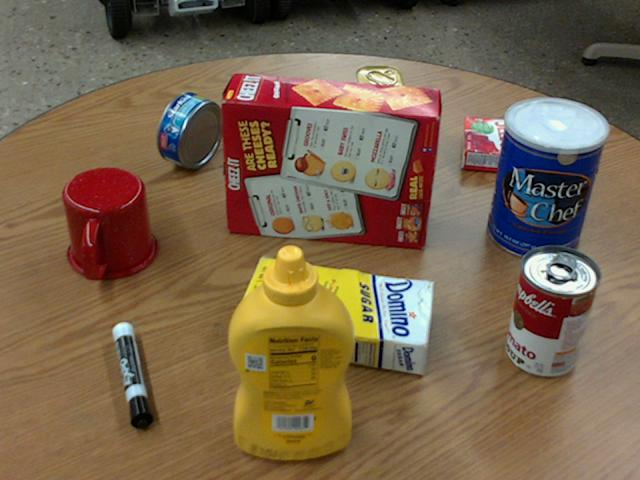cracker_box: (221, 74, 438, 248)
gelatin_box: (463, 114, 525, 172)
large_marker: (112, 322, 150, 427)
master_chef_can: (487, 97, 606, 259)
mug: (63, 168, 157, 278)
mustard_bottle: (226, 245, 351, 458)
potted_meat_can: (356, 64, 407, 162)
sugar_box: (235, 256, 435, 375)
tomato_soup_can: (506, 246, 599, 377)
tuna_fish_can: (157, 92, 222, 168)
